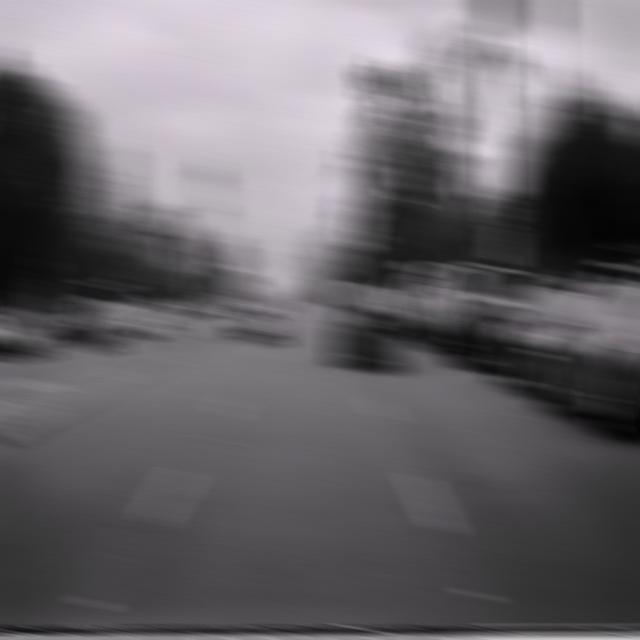speedLimit35: (488, 191, 520, 236)
